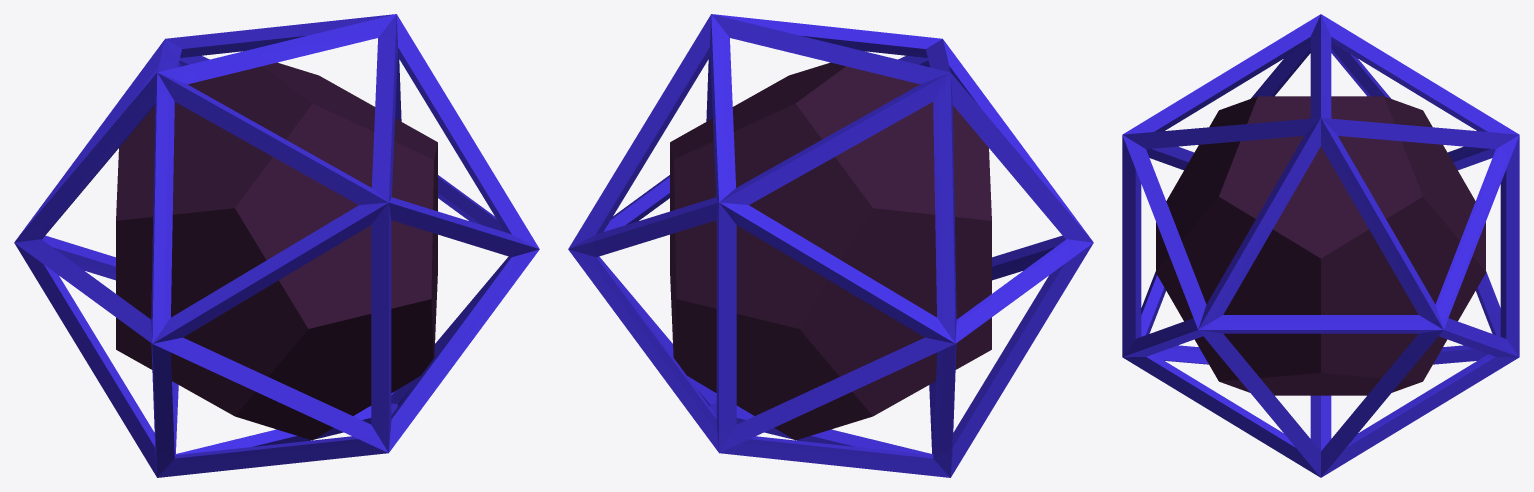
File: dual_icosaedro.glb
3 views of the same model, side by side, from view 1: azimuth 30°, elevation 25°; view 2: azimuth 150°, elevation 25°; view 3: azimuth 270°, elevation 25° (orthographic). The views are drawn at different scales.
Parts seen in each view (by area): view 1: Solid, Solid.001; view 2: Solid, Solid.001; view 3: Solid, Solid.001.
Part boxes in pixels (x1,y1,x2,y2): Solid: (14, 14, 539, 477); Solid.001: (116, 51, 437, 440); Solid: (568, 14, 1093, 477); Solid.001: (670, 51, 991, 440); Solid: (1122, 14, 1519, 477); Solid.001: (1156, 96, 1485, 395).
Size of the model in its own units: 3.57 by 3.57 by 3.57.
